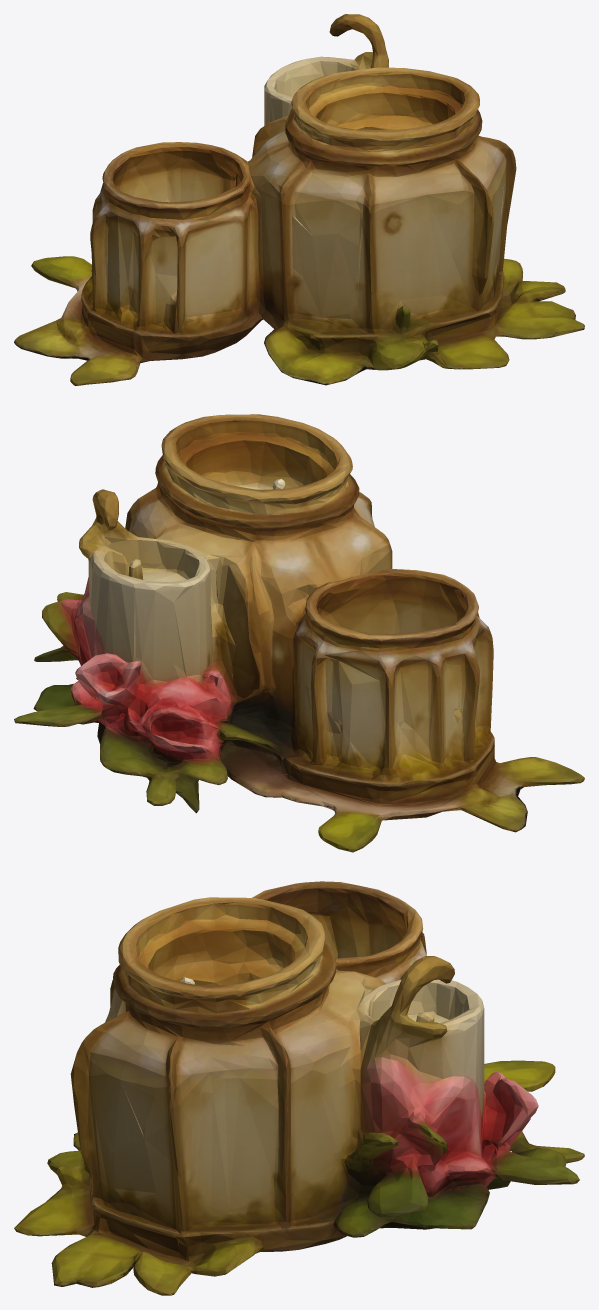
3 renders of one model, top to bottom at view 1: azimuth 30°, elevation 25°; view 2: azimuth 150°, elevation 25°; view 3: azimuth 270°, elevation 25°, orthographic. The views are drawn at different scales.
Visible parts, largest first — view 1: world; view 2: world; view 3: world.
Part boxes in pixels (x1,y1,x2,y2): world: (14,14,584,385); world: (14,414,584,852); world: (14,881,584,1295).
Size of the model in its own units: 0.9983 by 0.4949 by 0.8637.
Materials: 1 (1 with a texture image).
